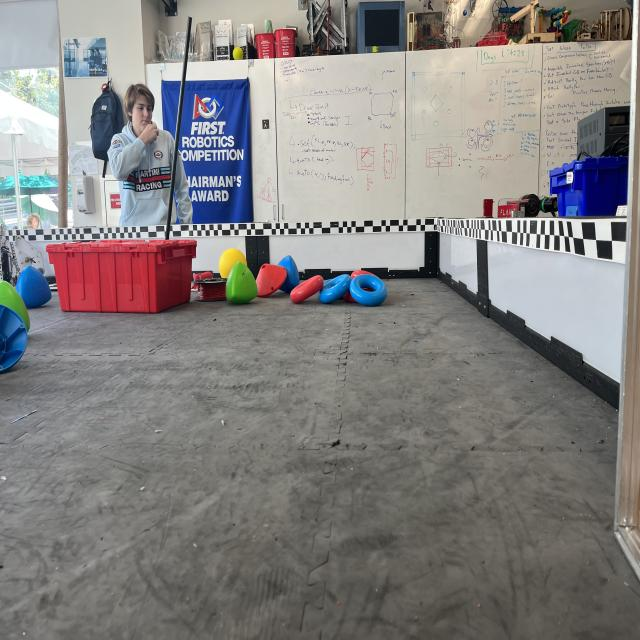Blue-Ring: (350, 273, 388, 307), (319, 275, 351, 303), (328, 293, 329, 295)
Red-Ring: (290, 275, 324, 303)
